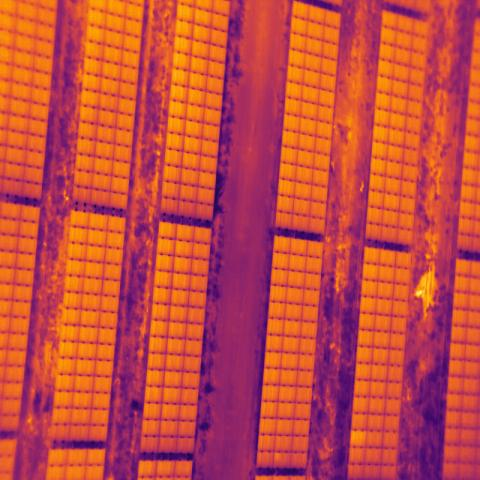fault: (349, 431, 368, 449)
